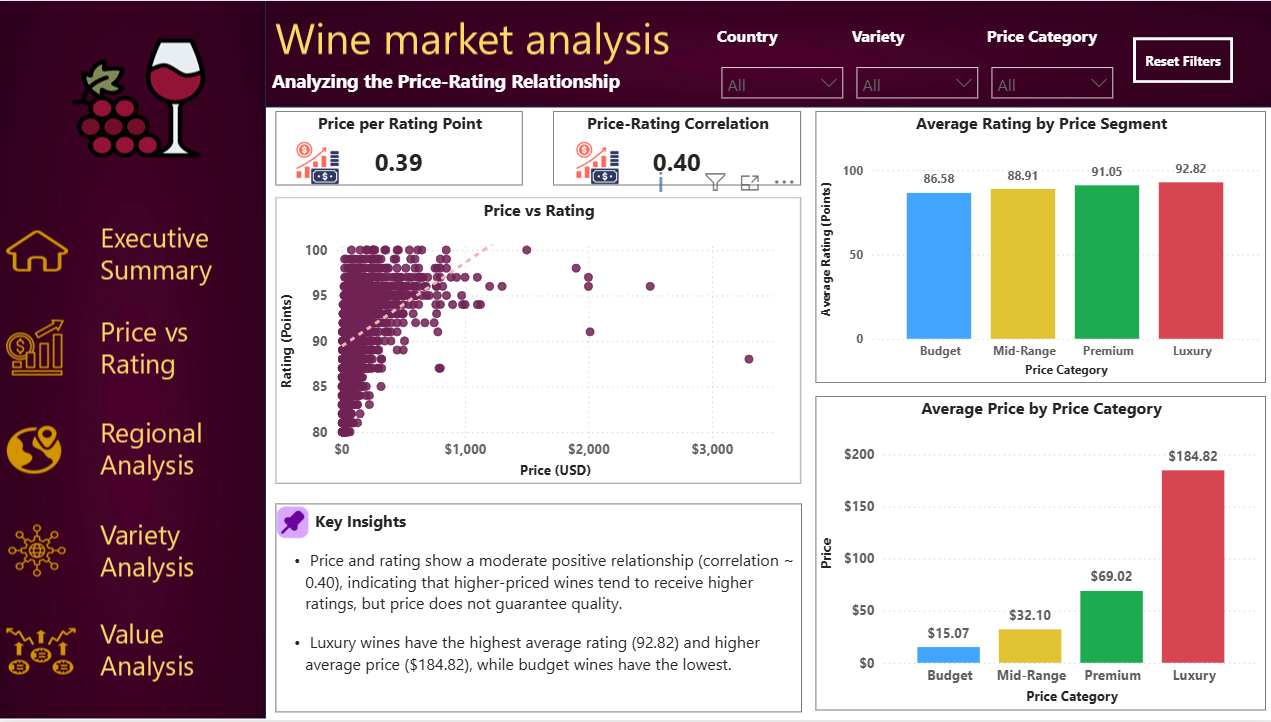

Layout of this report page (visuals, bound fields, positions):
{"tool":"powerbi","page":{"name":"Price vs Rating","canvas":[1280,720],"ordinal":1},"visuals":[{"type":"slicer","title":"Country","fields":{"Values":["wine_data wine_insight.country"]},"box":[719,24.1,135.1,77.2],"z":0},{"type":"slicer","title":"Variety","fields":{"Values":["wine_data wine_insight.variety"]},"box":[854.2,24.1,135.1,77.2],"z":1000},{"type":"scatterChart","title":"Price vs Rating ","fields":{"X":["wine_data wine_insight.price"],"Y":["wine_data wine_insight.points"]},"box":[277.2,196.2,525.6,286.8],"z":3000},{"type":"clusteredColumnChart","title":"Average Rating by Price Segment","fields":{"Category":["wine_data wine_insight.price_category"],"Y":["Avg(wine_data wine_insight.points)"]},"box":[817.3,109.9,450.6,272],"z":4000},{"type":"clusteredColumnChart","title":"Average Price by Price Category","fields":{"Category":["wine_data wine_insight.price_category"],"Y":["Avg(wine_data wine_insight.price)"]},"box":[817.3,395.6,450.6,314.6],"z":5000},{"type":"slicer","title":"Price Category","fields":{"Values":["wine_data wine_insight.price_category"]},"box":[989.3,24.1,135.1,77.2],"z":6000},{"type":"card","title":"Price per Rating Point","fields":{"Values":["wine_data wine_insight.Price to Quality"]},"box":[277.2,109.8,247,74.1],"z":7000},{"type":"card","title":"Price-Rating Correlation","fields":{"Values":["wine_data wine_insight.Price Rating Correlation"]},"box":[555,109.9,248.4,74.1],"z":8000},{"type":"textbox","box":[269,62.7,430.7,38.6],"z":9000},{"type":"textbox","box":[277.5,501.9,526,208.7],"z":10000},{"type":"image","box":[277.5,501.9,34.3,37.1],"z":11000},{"type":"image","box":[277.5,140.1,83.8,44],"z":12000},{"type":"image","box":[555,140.1,89.3,44],"z":13000},{"type":"actionButton","box":[1135.3,36.2,100.2,45.9],"z":13001},{"type":"actionButton","box":[0,306.1,268.5,80.7],"z":13002},{"type":"actionButton","box":[0,403.5,268.5,80.7],"z":13003},{"type":"actionButton","box":[0,512,268.5,80.7],"z":13004},{"type":"actionButton","box":[0,610.8,268.5,80.7],"z":13005},{"type":"actionButton","box":[0,214.3,268.5,80.7],"z":13006}]}

Visuals, with their boxes in screenshot pixels (x1, y1, x2, y2), scaled from the page's 1280x720 canvas onto the 1271x722 screenshot:
"Country" slicer: bbox(714, 24, 848, 102)
"Variety" slicer: bbox(848, 24, 982, 102)
"Price vs Rating " scatterChart: bbox(275, 197, 797, 484)
"Average Rating by Price Segment" clusteredColumnChart: bbox(812, 110, 1259, 383)
"Average Price by Price Category" clusteredColumnChart: bbox(812, 397, 1259, 712)
"Price Category" slicer: bbox(982, 24, 1116, 102)
"Price per Rating Point" card: bbox(275, 110, 521, 184)
"Price-Rating Correlation" card: bbox(551, 110, 798, 185)
textbox: bbox(267, 63, 695, 102)
textbox: bbox(276, 503, 798, 713)
image: bbox(276, 503, 310, 540)
image: bbox(276, 140, 359, 185)
image: bbox(551, 140, 640, 185)
actionButton: bbox(1127, 36, 1227, 82)
actionButton: bbox(0, 307, 267, 388)
actionButton: bbox(0, 405, 267, 486)
actionButton: bbox(0, 513, 267, 594)
actionButton: bbox(0, 612, 267, 693)
actionButton: bbox(0, 215, 267, 296)
